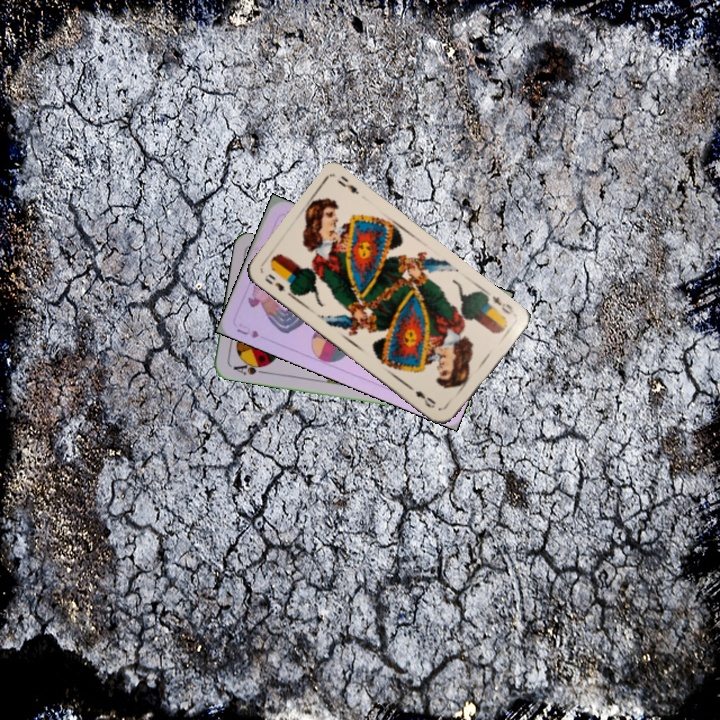EO: (261, 270, 295, 298), (488, 292, 516, 317)
SA: (229, 358, 269, 378)
SU: (233, 319, 261, 341)
